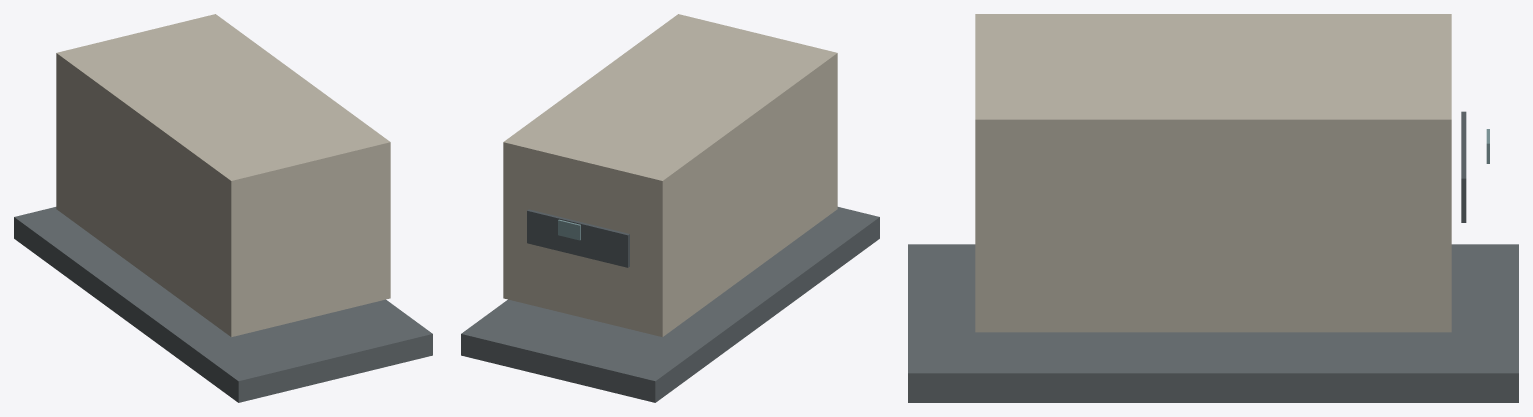
The model's file is iz3_prison_service_01.glb.
3 views of the same model, side by side, from view 1: azimuth 30°, elevation 25°; view 2: azimuth 150°, elevation 25°; view 3: azimuth 270°, elevation 25° (orthographic). The views are drawn at different scales.
Parts seen in each view (by area): view 1: cabinet, base; view 2: cabinet, base, panel, display; view 3: cabinet, base, panel.
Part boxes in pixels (x1,y1,x2,y2): cabinet: [56, 14, 390, 336]; base: [14, 207, 432, 402]; cabinet: [503, 14, 837, 336]; base: [461, 207, 879, 402]; panel: [527, 209, 629, 267]; display: [558, 219, 580, 240]; cabinet: [975, 14, 1451, 332]; base: [908, 244, 1518, 402]; panel: [1461, 111, 1466, 222].
Size of the model in its own units: 3 by 2.94 by 6.
